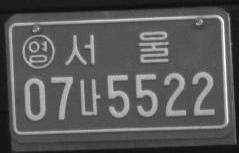0: (23, 76, 47, 122)
2: (190, 70, 216, 116), (163, 71, 187, 117)
5: (134, 72, 159, 118), (106, 73, 130, 119)
7: (50, 74, 74, 121)
나: (78, 77, 100, 117)
서울_D: (63, 30, 169, 65)
영: (21, 33, 55, 70)
